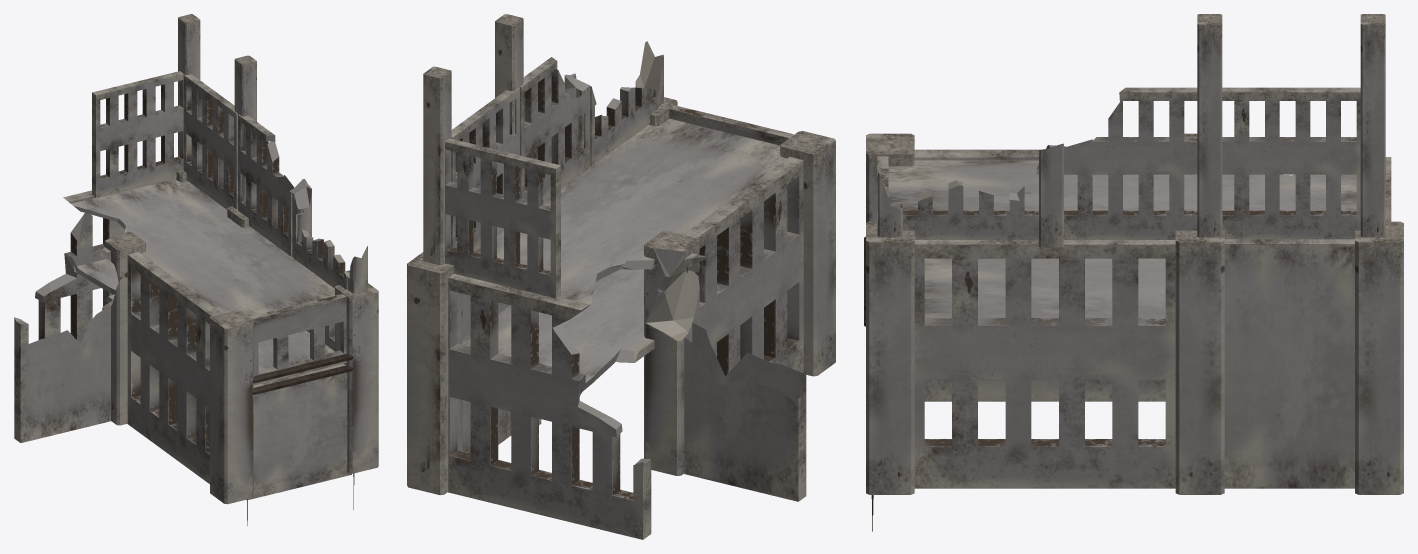
The model's file is Building 2_destroyed.fbx.
3 renders of one model, left to right at view 1: azimuth 30°, elevation 25°; view 2: azimuth 150°, elevation 25°; view 3: azimuth 270°, elevation 25°, orthographic. The views are drawn at different scales.
Parts seen in each view (by area): view 1: Cube.067; view 2: Cube.067; view 3: Cube.067.
Boxes of the visible parts, x1,y1,x2,y2 form: Cube.067: (14, 14, 378, 525); Cube.067: (407, 14, 835, 539); Cube.067: (864, 14, 1403, 531).
Size of the model in its own units: 1094 by 1565 by 1453.
Materials: 2 (2 with a texture image).
